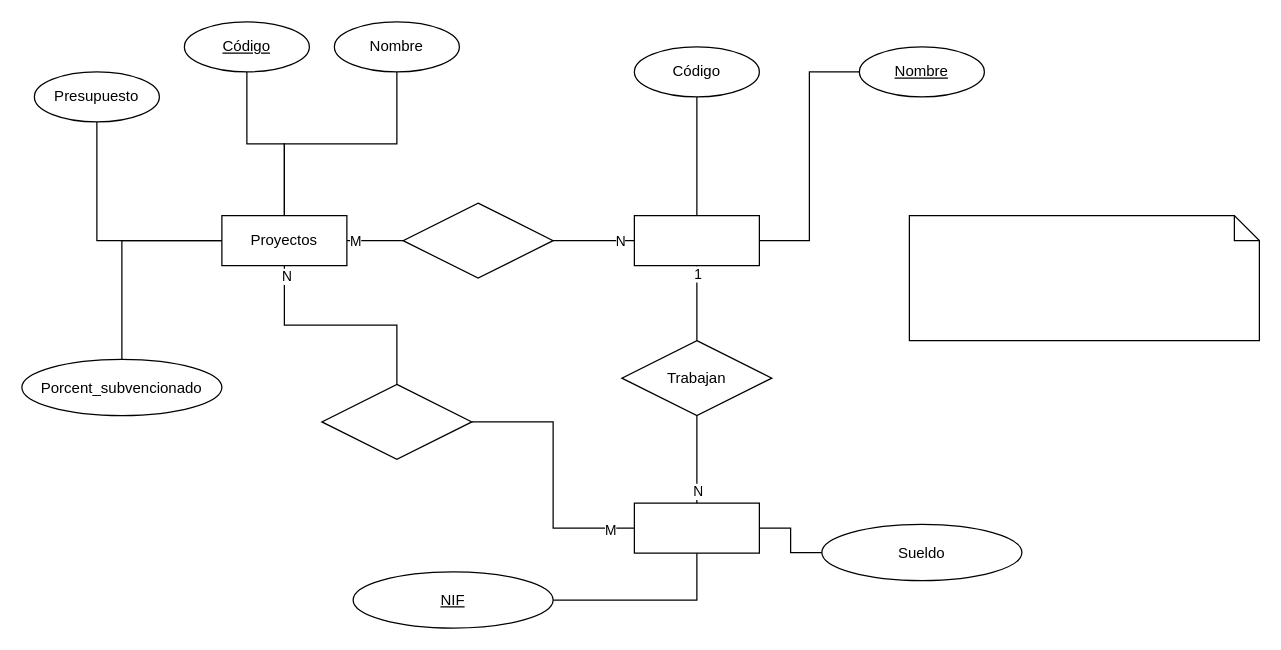
Some shapes in this 1281 by 650 pixel diagram are drawn without their labels. The shapes that lost their labels are listed below. From the top down, each one's centre as x and y in pixels, then its label:
At (477,240): "Participa".
At (696,240): "Departamentos".
At (1083,277): "Proyectos Cod. nombre. Presup. porcen. 001. campasdasd. 200K€. 26% 002. asdasd a".
At (396,421): "Trabaja_en".
At (696,527): "Empleados".
